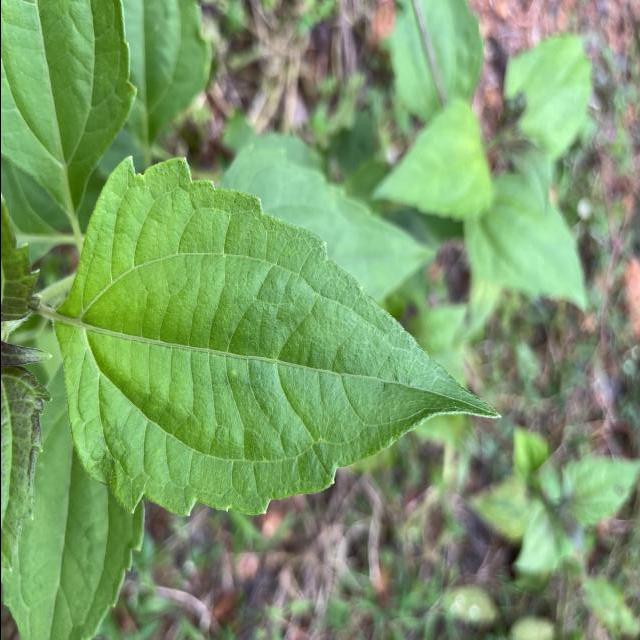Chromolaena odorata: (51, 149, 506, 522)
